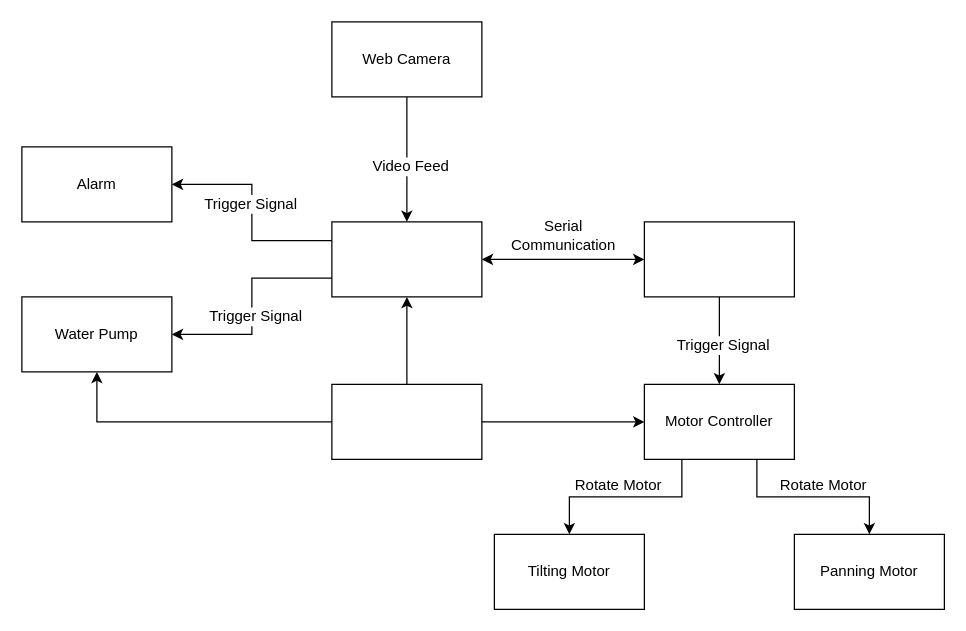
This 966x631 diagram has some shape labels left out. The shapes that lost their labels are listed below. From the top down, each one's centre as x and y in pixels, then its label:
(406,259): Raspberry Pi
(718,259): Arduino Uno
(406,421): Power Supply
